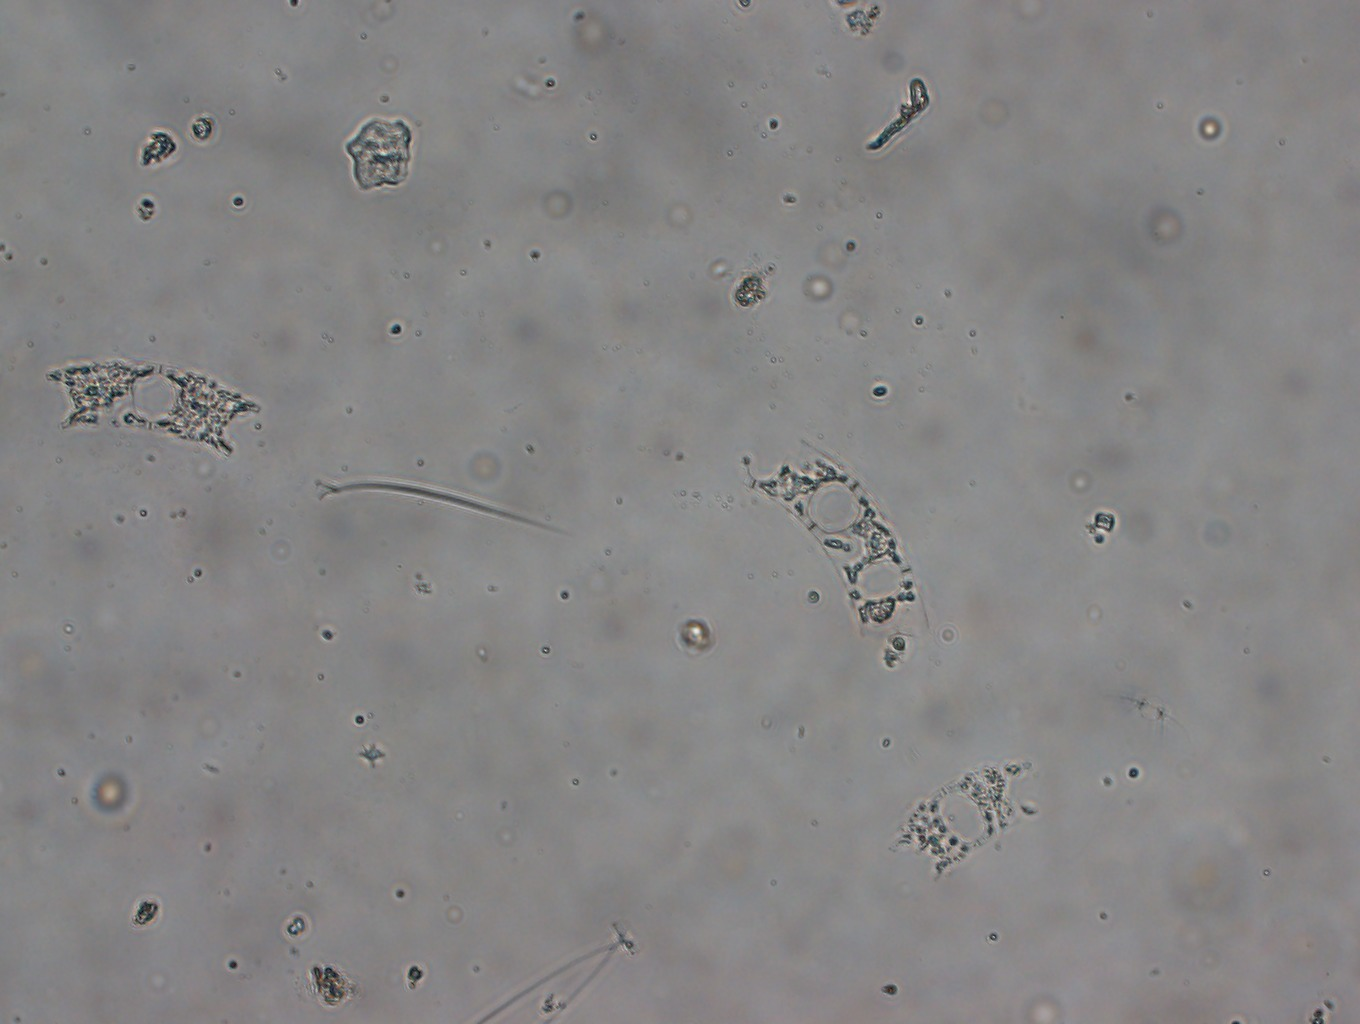eucampia: (743, 440, 930, 650), (42, 359, 260, 458), (886, 760, 1045, 882)
